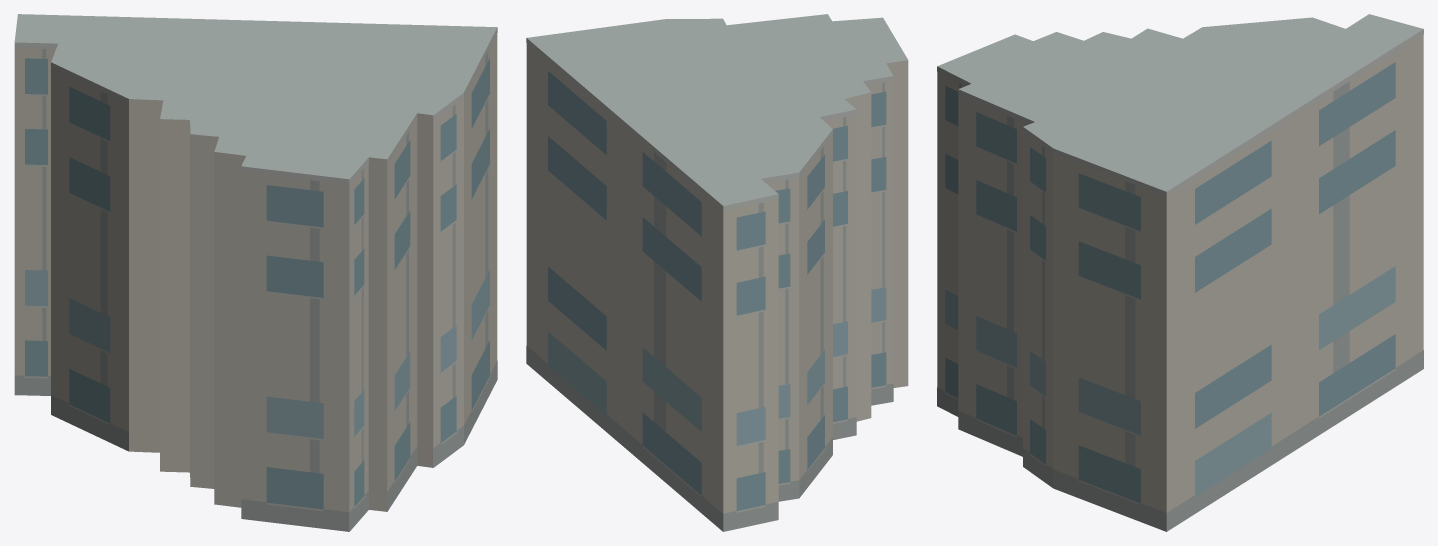
The model's file is survey-upis-32645704.glb.
The picture shows the model from 3 angles, left to right: view 1: azimuth 30°, elevation 25°; view 2: azimuth 150°, elevation 25°; view 3: azimuth 270°, elevation 25°; orthographic projection. The views are drawn at different scales.
Visible parts, largest first — view 1: survey-upis-32645704.tmp; view 2: survey-upis-32645704.tmp; view 3: survey-upis-32645704.tmp.
Part boxes in pixels (x1,y1,x2,y2): survey-upis-32645704.tmp: (14,14,497,531); survey-upis-32645704.tmp: (526,14,908,531); survey-upis-32645704.tmp: (937,14,1423,531).
Bounding box in the file's own units: 17.28 × 15.4 × 19.98.
